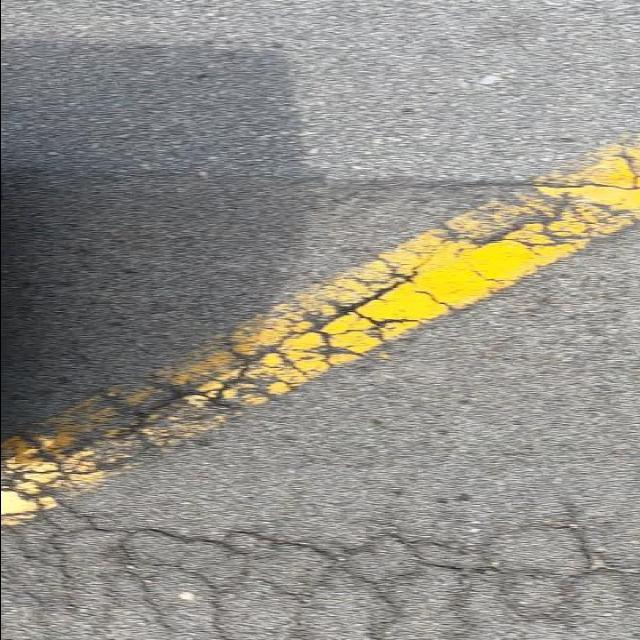cracks: (0, 145, 639, 640)
